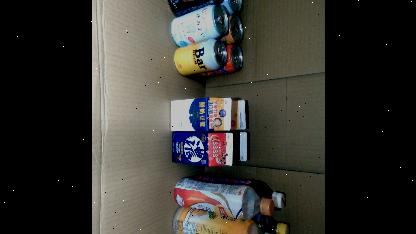Can: (170, 4, 228, 47), (173, 39, 226, 76), (195, 45, 242, 77), (167, 0, 222, 16), (218, 15, 242, 45), (220, 0, 242, 15)
Plastic Bottle: (173, 178, 273, 219), (190, 172, 284, 210), (172, 207, 269, 234), (251, 213, 288, 234)
